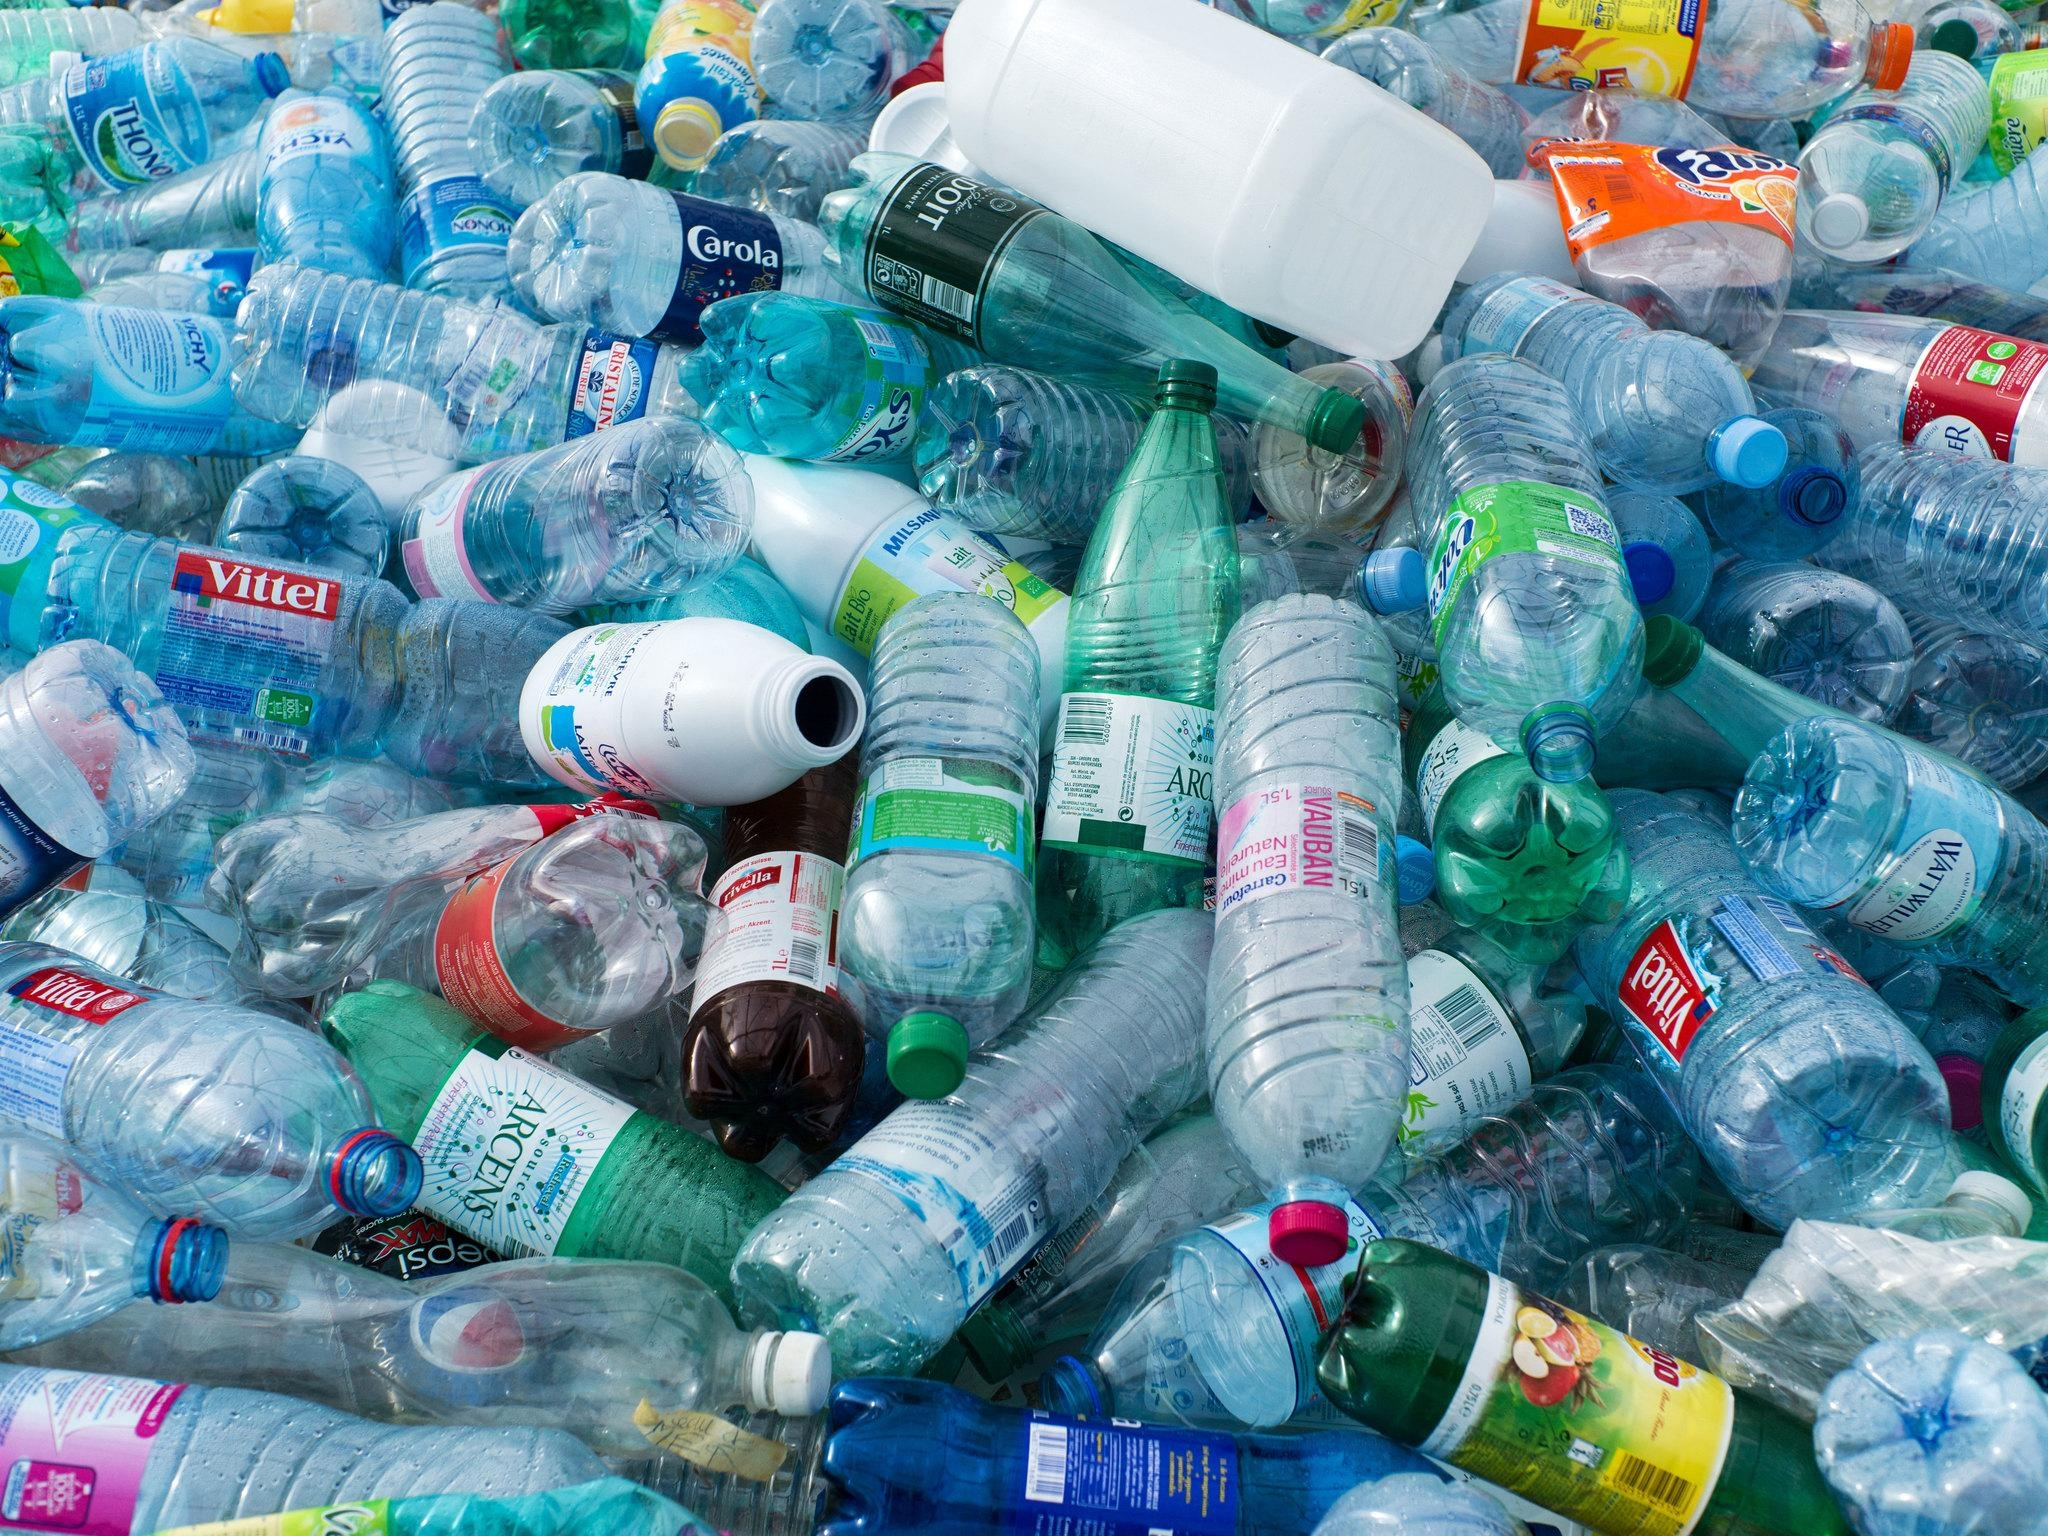plastic: (919, 2, 1526, 379), (65, 1205, 861, 1484), (1563, 783, 1985, 1242), (810, 145, 1366, 453), (1185, 578, 1421, 1273), (319, 987, 821, 1299), (1313, 1262, 1858, 1536), (2, 921, 434, 1262), (813, 578, 1082, 1105), (790, 1350, 1464, 1536), (1393, 337, 1667, 783), (219, 237, 735, 452), (376, 389, 801, 634), (1456, 257, 1843, 521), (1717, 682, 2048, 976), (514, 611, 935, 829), (672, 278, 1085, 494), (1521, 103, 1821, 392), (2, 624, 210, 983), (368, 2, 584, 340), (2, 1108, 285, 1365), (2, 282, 326, 487), (2, 18, 302, 210)
